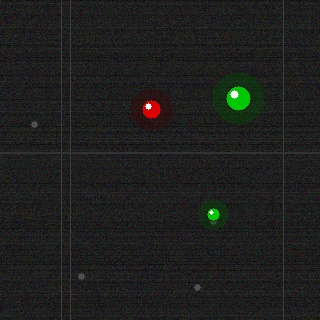green_normal: (224, 84, 252, 112), (205, 206, 221, 222)
red_fault: (140, 98, 162, 120)
